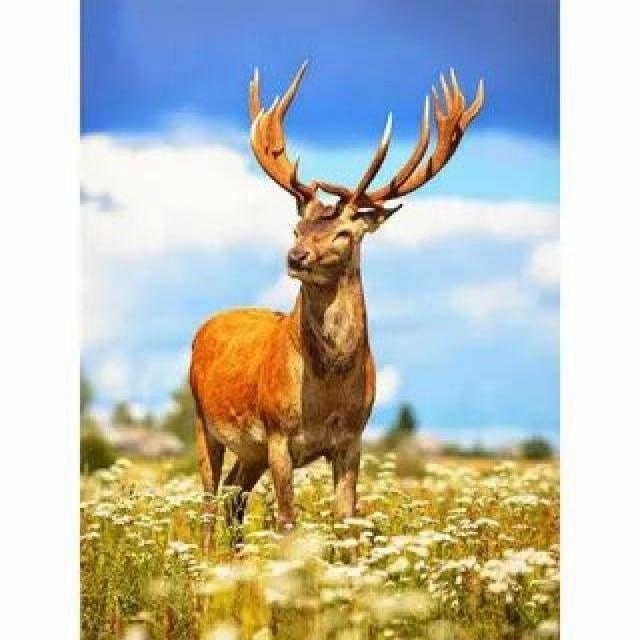deer: (115, 72, 541, 560)
